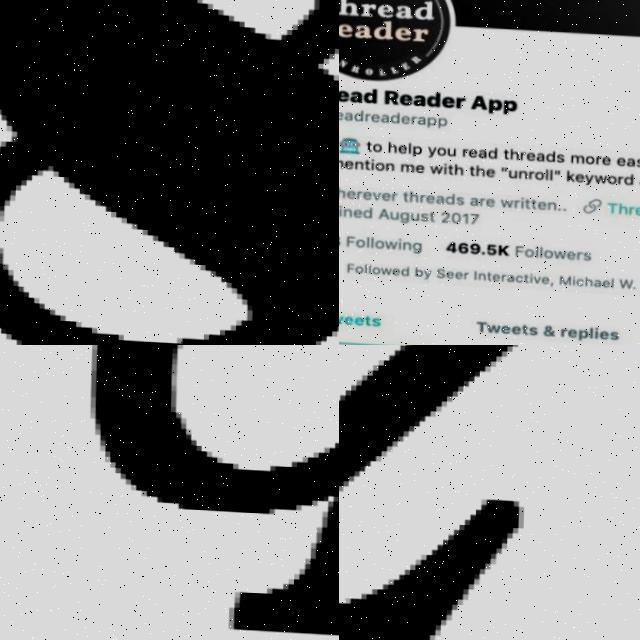0: (445, 240, 455, 250)
1: (485, 243, 495, 253)
2: (456, 241, 466, 251)
3: (468, 211, 478, 223)
5: (468, 242, 478, 252)
8: (0, 0, 339, 345)
Q: (68, 345, 339, 640)
Z: (339, 345, 618, 640)
